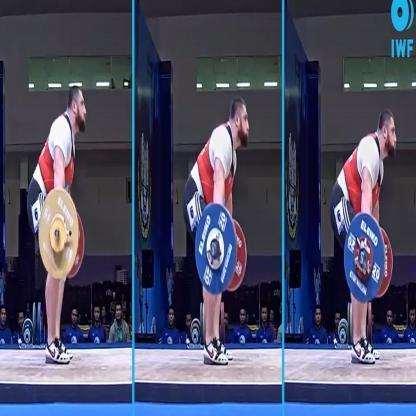barbell: (194, 202, 249, 296), (342, 212, 394, 305), (37, 187, 86, 280)
